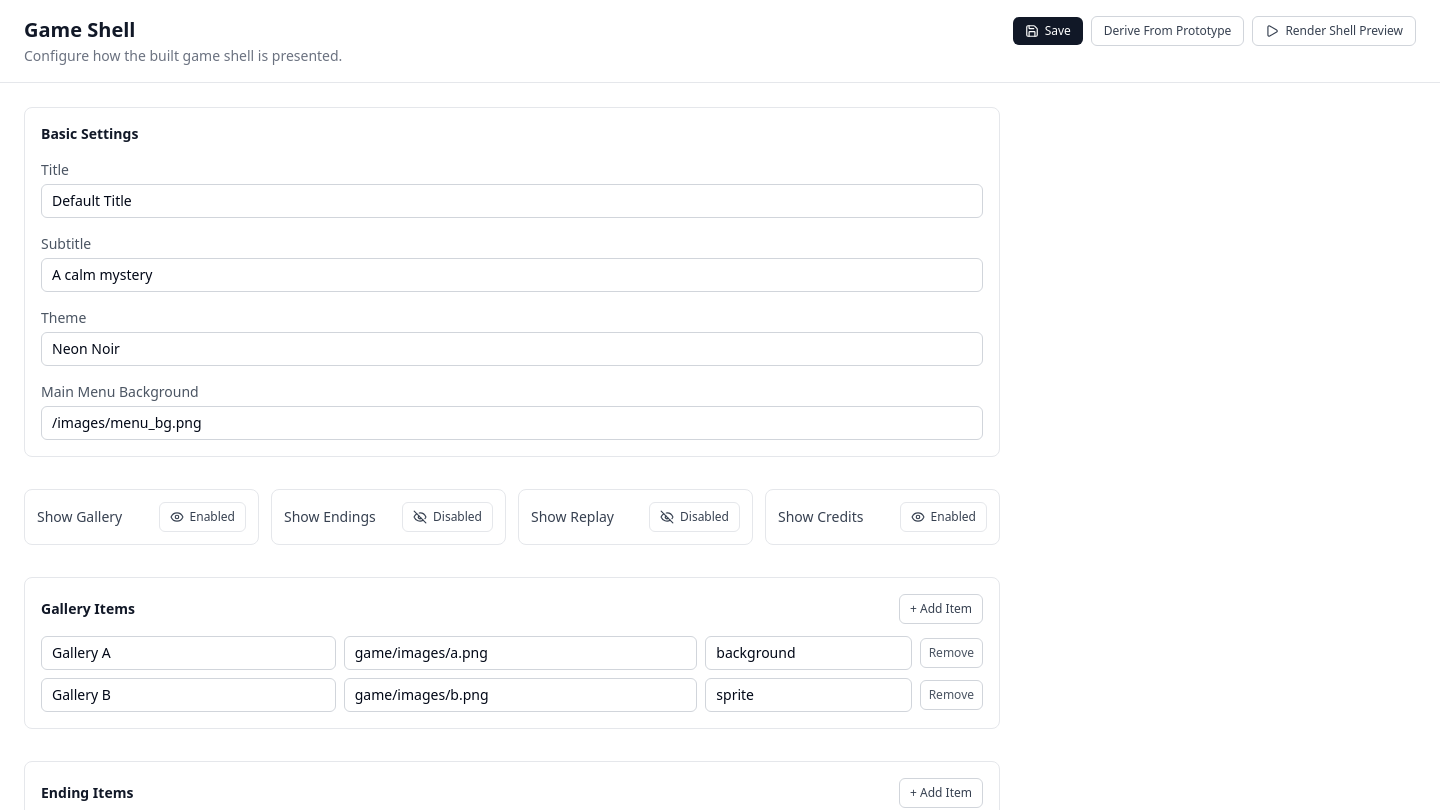
GameShellWorkspaceView › posts derive and render-preview requests to project-scoped routes
Click the button "Derive From Prototype": [1168, 31] box [1091, 16, 1244, 46]
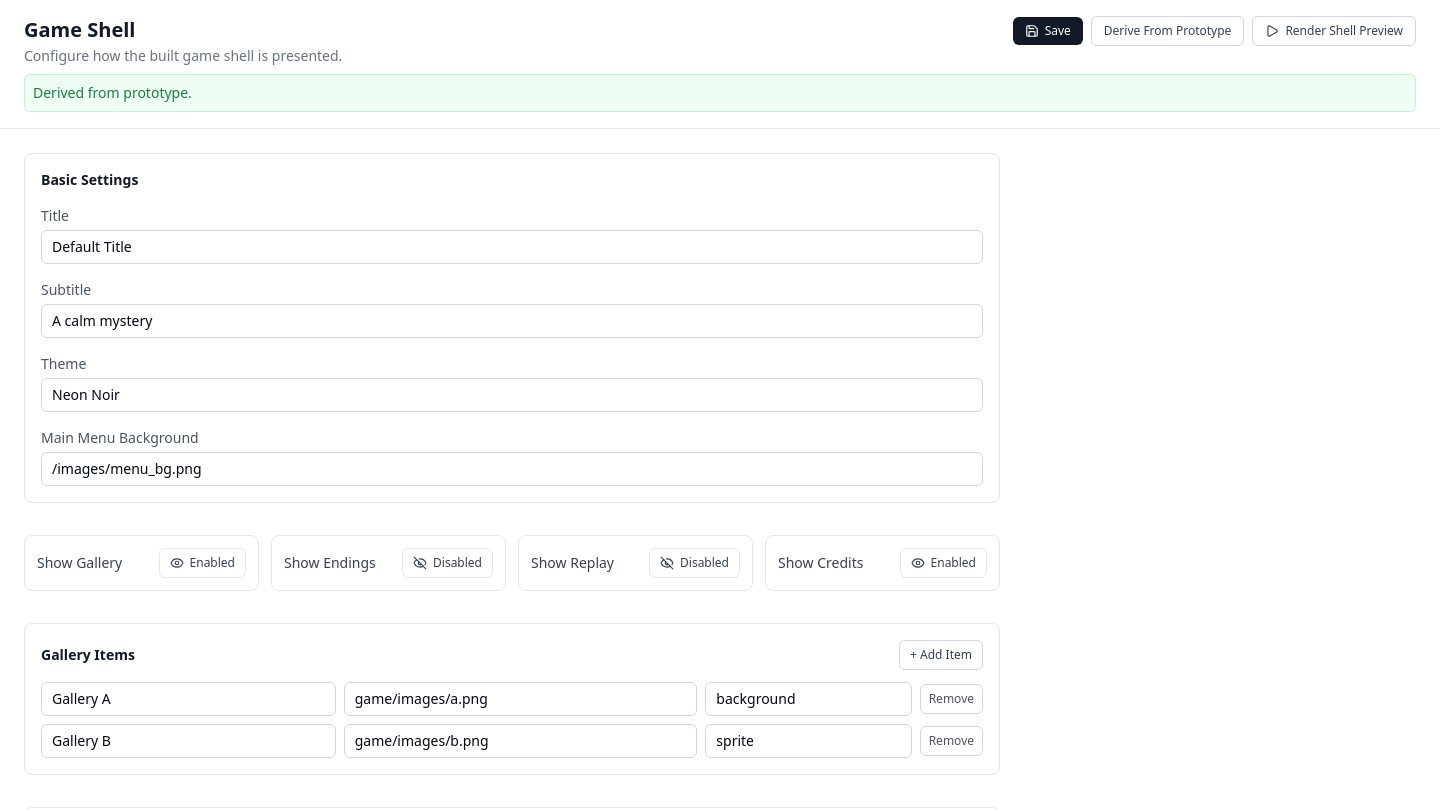
Click the button "Render Shell Preview": [1334, 31] box [1252, 16, 1416, 46]
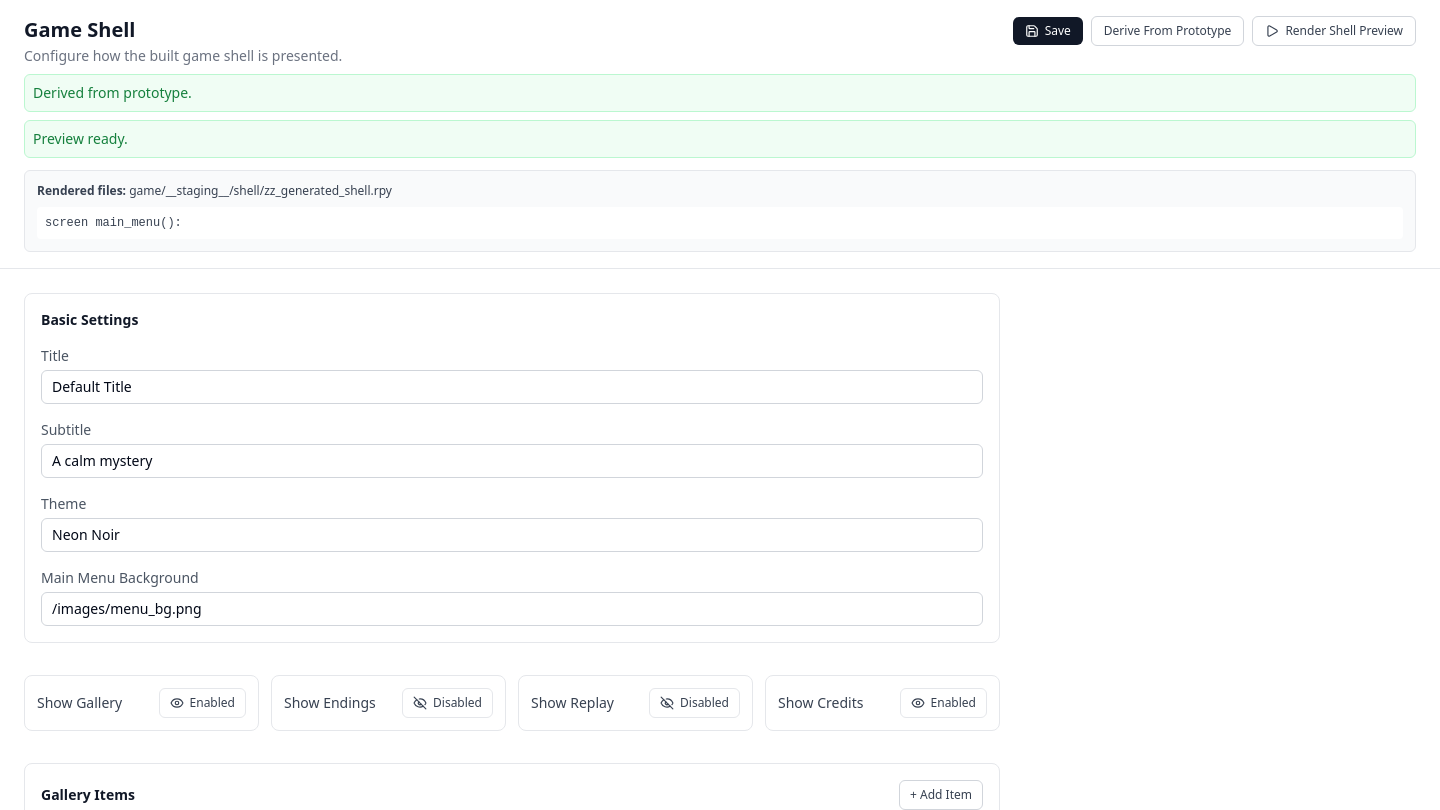
Expected: the text "Rendered files:" is shown, [37, 182, 126, 199]
Expected: the text "zz_generated_shell.rpy" is shown, [129, 182, 392, 199]
Expected: the text "screen main_menu():" is shown, [37, 207, 1403, 239]
